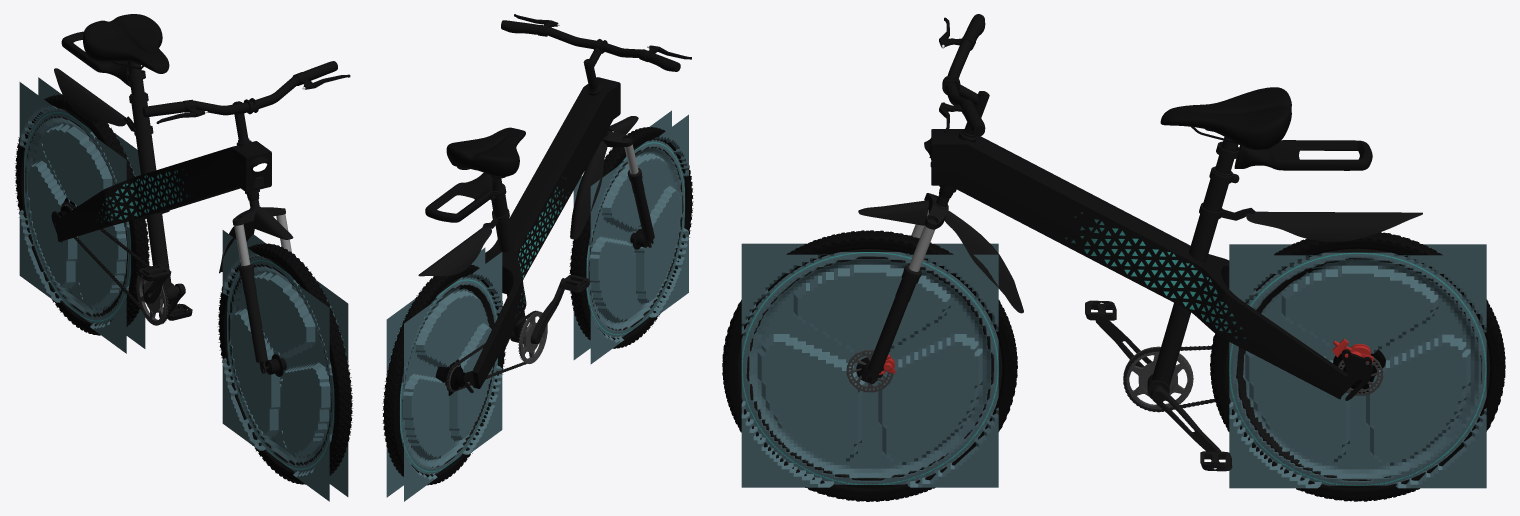
Rendered from 1st_graphics_2_greenblue.glb.
3 renders of one model, left to right at view 1: azimuth 30°, elevation 25°; view 2: azimuth 150°, elevation 25°; view 3: azimuth 270°, elevation 25°, orthographic. The views are drawn at different scales.
Parts seen in each view (by area): view 1: W 1st graphics 2, frame, treads front, treads rear, seat, seat joint, handle bar, Part1, rear fender, Cube.008, fender front, 1st graphics 2 (+8 smaller); view 2: W 1st graphics 2, frame, treads rear, treads front, seat, handle bar, fender front, Cube.008, rear fender, Part1, seat joint, rear sprocket (+8 smaller); view 3: W 1st graphics 2, frame, treads front, treads rear, seat, seat joint, rear fender, Cube.008, fender front, alloy wheel.001, Part1, handle bar (+4 smaller).
Boxes of the visible parts, box(x1,y1,x2,y2) form: W 1st graphics 2: box(19, 77, 348, 501); frame: box(51, 141, 271, 242); treads front: box(218, 243, 352, 484); treads rear: box(15, 94, 149, 335); seat: box(83, 14, 169, 73); seat joint: box(126, 61, 179, 303); handle bar: box(142, 61, 350, 123); Part1: box(232, 199, 294, 373); rear fender: box(54, 68, 130, 126); Cube.008: box(61, 31, 130, 86); fender front: box(219, 208, 293, 273); 1st graphics 2: box(99, 169, 187, 222); W 1st graphics 2: box(386, 110, 688, 501); frame: box(463, 77, 619, 392); treads rear: box(382, 264, 506, 485); treads front: box(569, 127, 693, 348); seat: box(446, 127, 525, 178); handle bar: box(501, 14, 691, 71); fender front: box(570, 116, 638, 239); Cube.008: box(425, 172, 495, 222); rear fender: box(418, 226, 491, 276); Part1: box(602, 130, 654, 247); seat joint: box(490, 178, 527, 343); rear sprocket: box(518, 311, 547, 363); W 1st graphics 2: box(741, 243, 1486, 488); frame: box(932, 129, 1372, 400); treads front: box(722, 230, 1017, 501); treads rear: box(1210, 232, 1505, 501); seat: box(1160, 87, 1291, 149); seat joint: box(1147, 136, 1239, 398); rear fender: box(1246, 211, 1422, 241); Cube.008: box(1234, 140, 1372, 170); fender front: box(858, 200, 1023, 313); alloy wheel.001: box(1225, 248, 1490, 488); Part1: box(865, 193, 949, 384); handle bar: box(939, 14, 985, 136).
Size of the model in its own units: 0.6041 by 1.07 by 1.77.
Materials: 13 (2 with a texture image).
